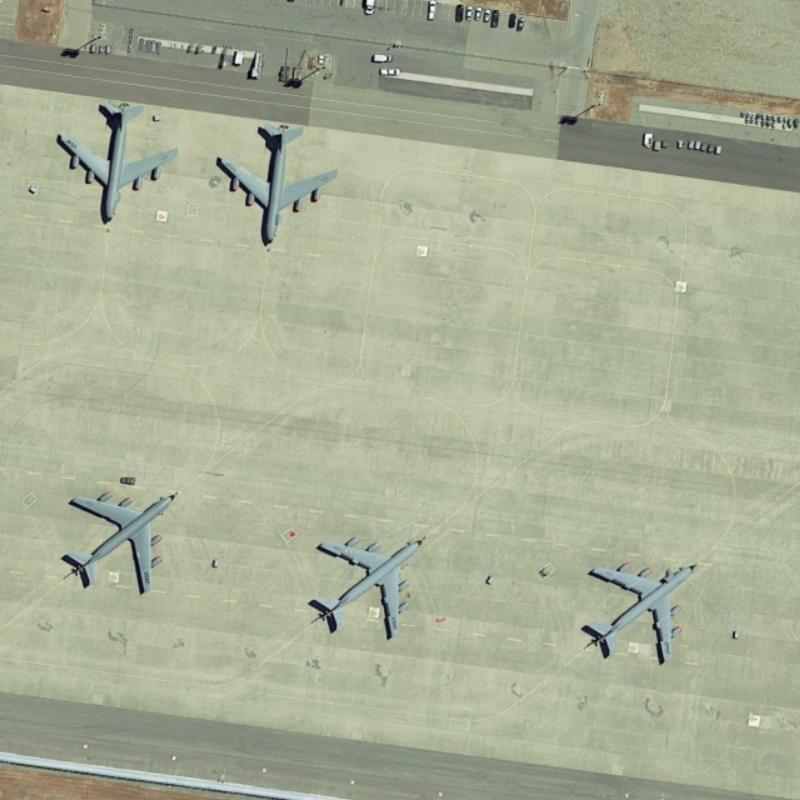A14: (209, 112, 342, 248), (49, 93, 181, 229), (570, 548, 703, 680), (308, 521, 432, 651), (58, 482, 178, 598)
